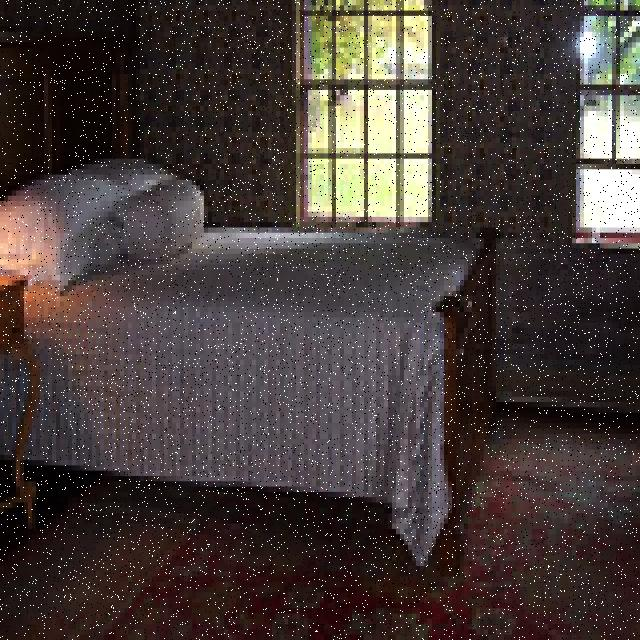bed: (0, 148, 508, 508)
